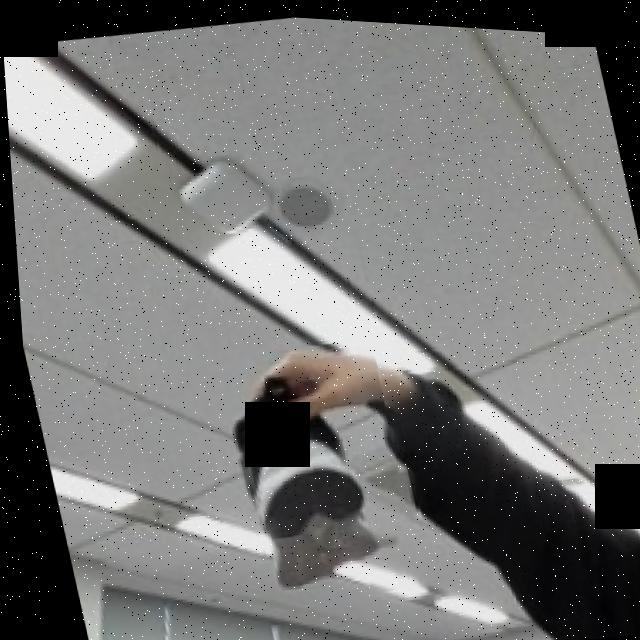shoe: (166, 326, 421, 619)
